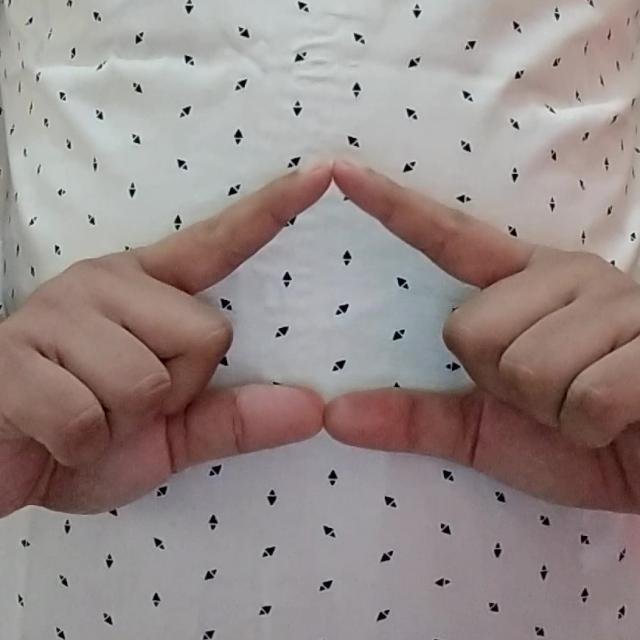A: (0, 161, 640, 516)
